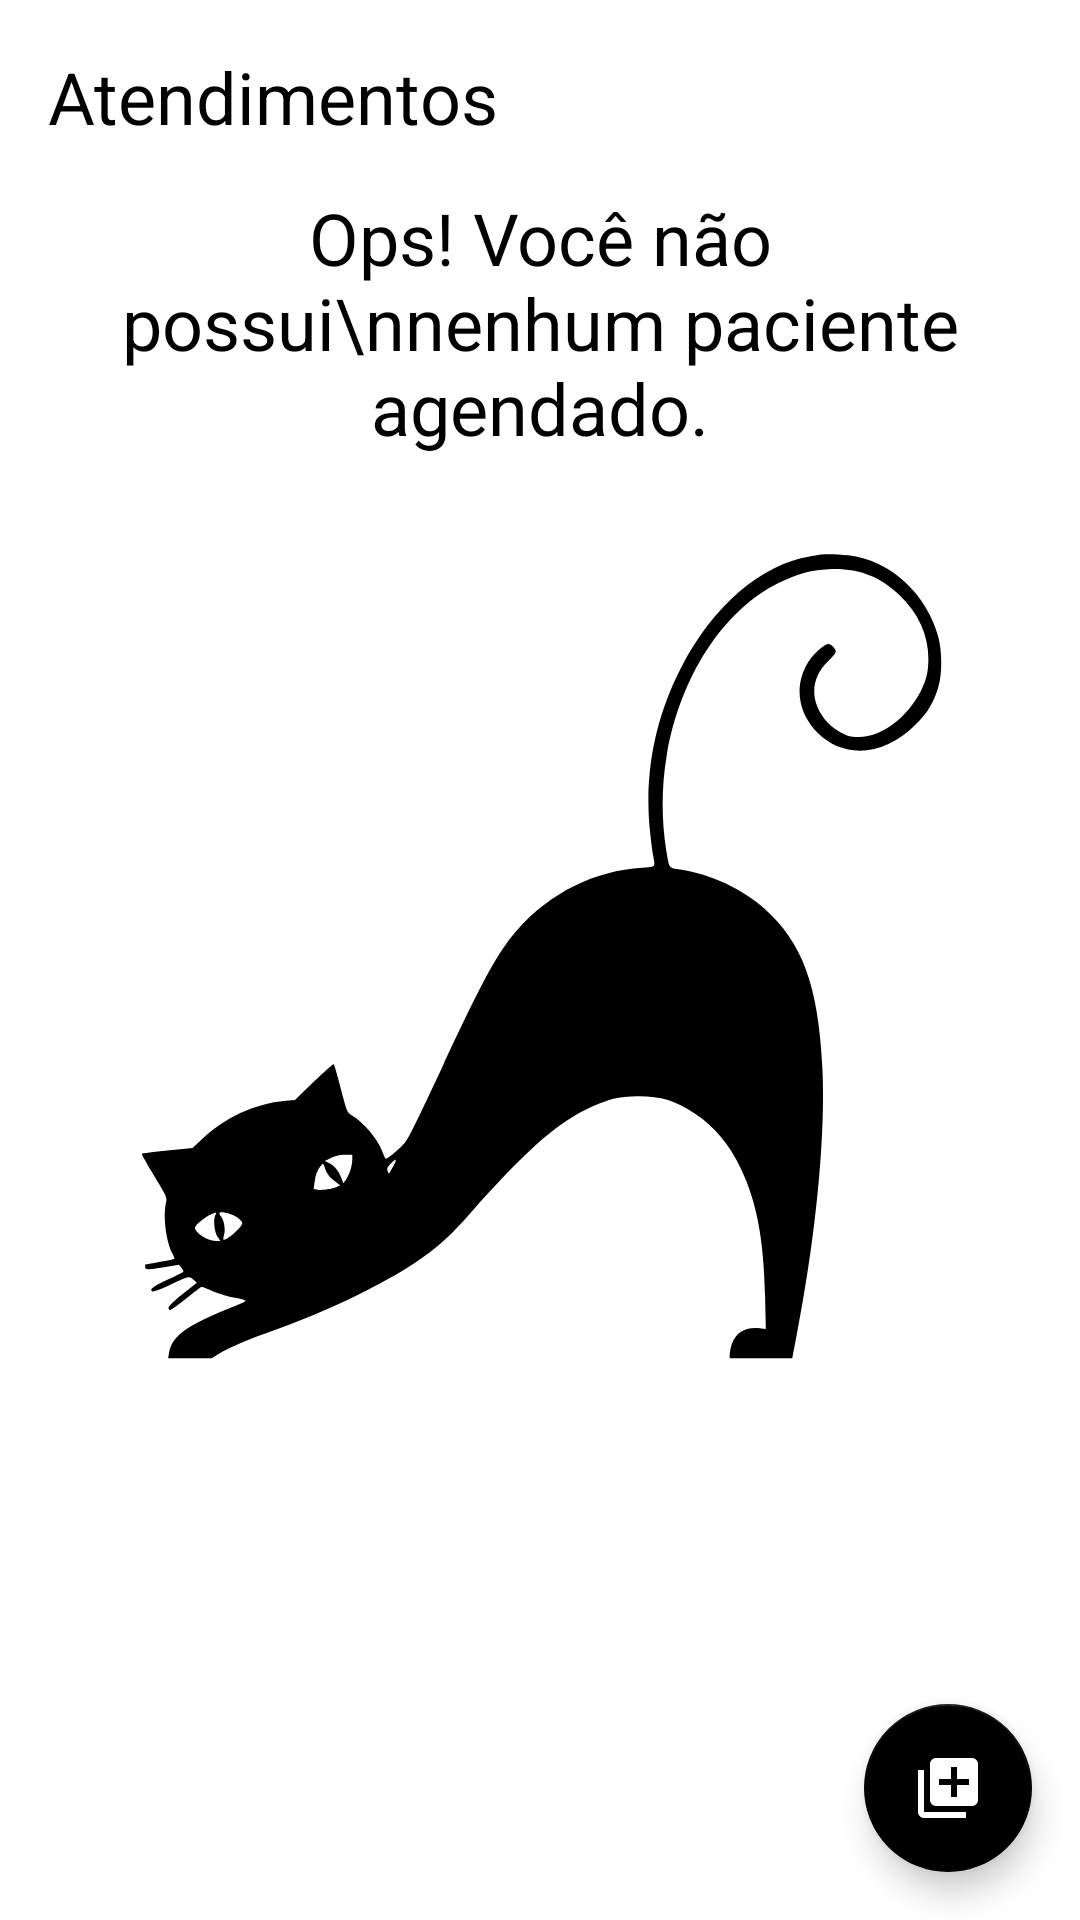

Where to tap for icons on this 1080 x 1920 app screen, as (x,y):
Nova Tarefa: (948,1788)
